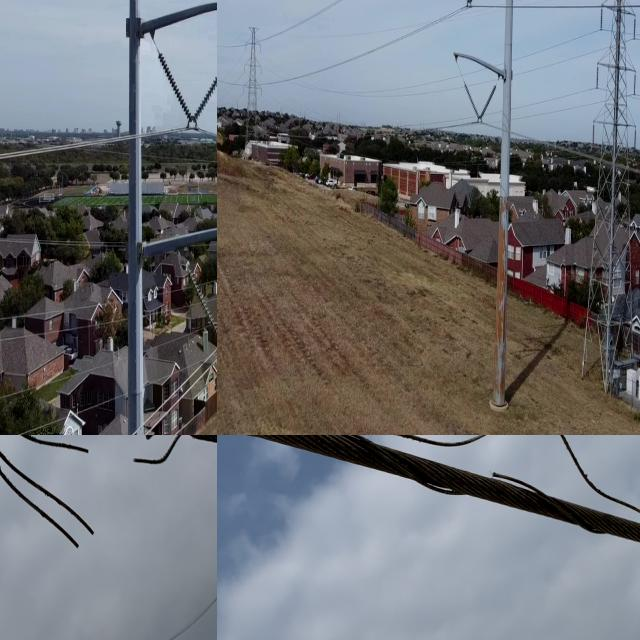杆塔: (570, 0, 640, 405), (241, 18, 263, 150)
正常绝缘子: (151, 42, 201, 137), (179, 250, 217, 343), (184, 64, 217, 137), (458, 74, 485, 128), (473, 79, 501, 129), (630, 118, 640, 162), (588, 116, 598, 159), (597, 0, 606, 43), (630, 9, 640, 47), (592, 61, 603, 95), (631, 66, 640, 103), (462, 0, 478, 18)
电缆破损: (292, 435, 640, 562), (0, 435, 209, 558)
